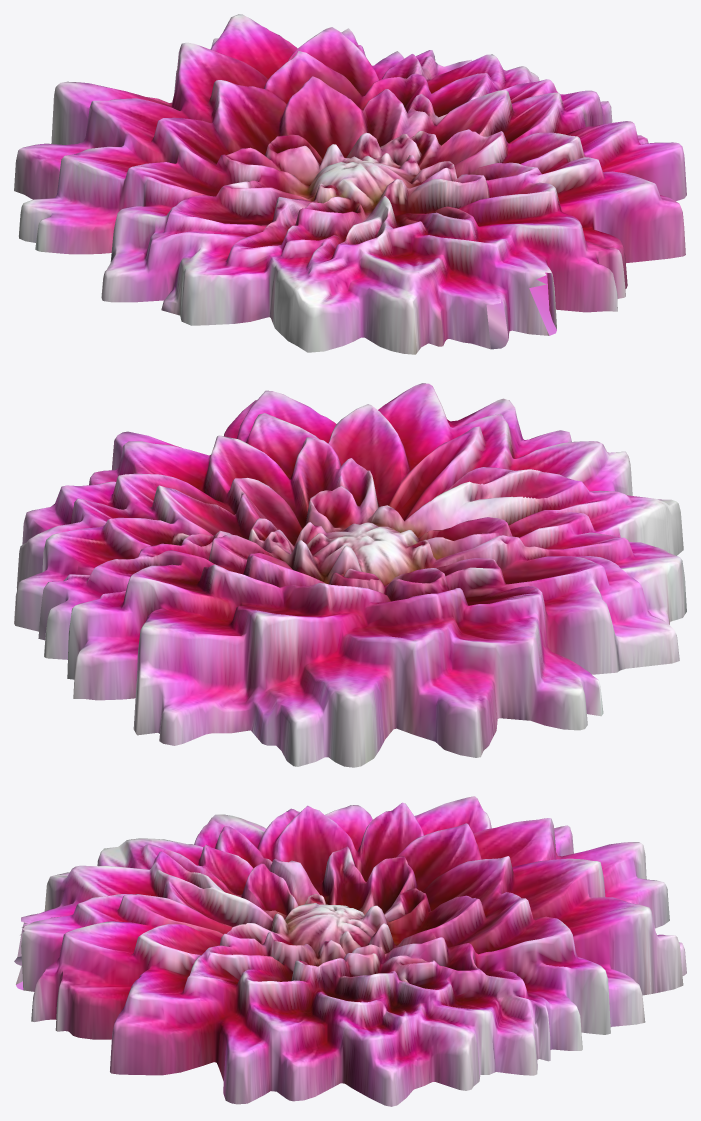
3 views of the same model, one above another, from view 1: azimuth 30°, elevation 25°; view 2: azimuth 150°, elevation 25°; view 3: azimuth 270°, elevation 25° (orthographic). The views are drawn at different scales.
Parts seen in each view (by area): view 1: 1df48628; view 2: 1df48628; view 3: 1df48628.
Boxes of the visible parts, x1,y1,x2,y2 form: 1df48628: (14, 14, 686, 354); 1df48628: (14, 383, 686, 767); 1df48628: (14, 796, 686, 1106).
Size of the model in its own units: 0.0725 by 0.0116 by 0.0777.
Materials: 1 (1 with a texture image).
